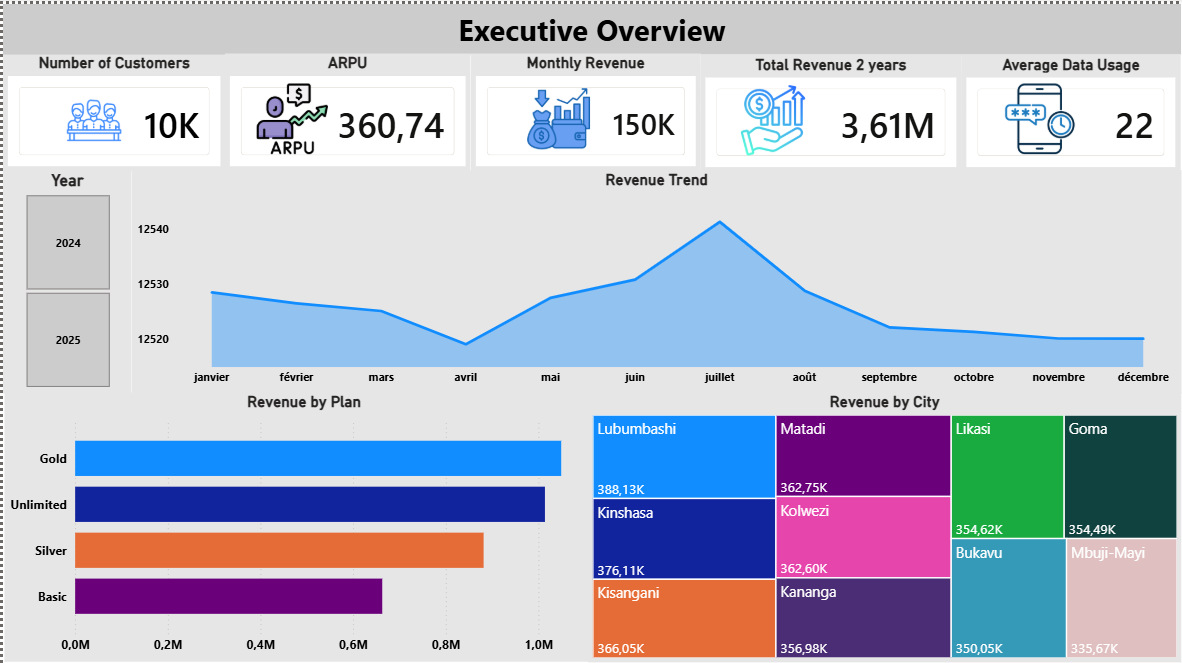

This screenshot's page, from the dashboard's own definition file:
{"tool":"powerbi","page":{"name":"Page 1","canvas":[1290,730],"ordinal":0},"visuals":[{"type":"cardVisual","title":"Number of Customers","fields":{"Data":["customers.Total Customers"]},"box":[0,54.8,243.8,128.5],"z":0},{"type":"actionButton","box":[0,0,100,40],"z":1},{"type":"textbox","box":[0,0,1289.4,55.2],"z":2},{"type":"image","box":[17,88.8,166.3,77.5],"z":3},{"type":"cardVisual","title":"ARPU","fields":{"Data":["revenue.ARPU"]},"box":[243.8,54.8,268.3,128.5],"z":4},{"type":"image","box":[243.8,86.9,147.4,77.5],"z":5},{"type":"cardVisual","title":"Total Revenue 2 years","fields":{"Data":["revenue.Revenues Total"]},"box":[763.7,55.2,285.7,127.6],"z":6},{"type":"image","box":[763.5,88.8,158.7,77.5],"z":7},{"type":"cardVisual","title":"Average Data Usage","fields":{"Data":["usage.Average Data Usage"]},"box":[1049.4,55.2,240,127.6],"z":8},{"type":"image","box":[1062.1,86.9,145.5,77.5],"z":9},{"type":"cardVisual","title":"Monthly Revenue","fields":{"Data":["revenue.Monthly Revenue"]},"box":[512.1,54.8,251.3,128.5],"z":10},{"type":"image","box":[557.5,88.8,100.2,73.7],"z":11},{"type":"lineChart","title":"Revenue Trend","fields":{"Y":["revenue.Monthly Revenue"],"Category":["revenue.month.Variation.Hiérarchie de dates.Mois"]},"box":[140.9,182.8,1148.4,243.8],"z":13},{"type":"barChart","title":"Revenue by Plan","fields":{"Category":["plans.plan_name"],"Y":["revenue.Revenues Total"],"Series":["plans.plan_name"]},"box":[1.6,425.9,655.8,294.7],"z":14},{"type":"treemap","title":"Revenue by City","fields":{"Group":["customers.city"],"Values":["revenue.Revenues Total"]},"box":[639.9,424.7,649.4,295.2],"z":15},{"type":"slicer","title":"Year","fields":{"Values":["revenue.Year"]},"box":[0,182.8,140.9,243.8],"z":16}]}

Visuals, with their boxes in screenshot pixels (x1, y1, x2, y2), scaled from the page's 1290x730 canvas onto the 1182x663 screenshot:
"Number of Customers" cardVisual: <box>0,50,223,166</box>
actionButton: <box>0,0,92,36</box>
textbox: <box>0,0,1181,50</box>
image: <box>16,81,168,151</box>
"ARPU" cardVisual: <box>223,50,469,166</box>
image: <box>223,79,358,149</box>
"Total Revenue 2 years" cardVisual: <box>700,50,962,166</box>
image: <box>700,81,845,151</box>
"Average Data Usage" cardVisual: <box>962,50,1181,166</box>
image: <box>973,79,1106,149</box>
"Monthly Revenue" cardVisual: <box>469,50,699,166</box>
image: <box>511,81,603,148</box>
"Revenue Trend" lineChart: <box>129,166,1181,387</box>
"Revenue by Plan" barChart: <box>1,387,602,654</box>
"Revenue by City" treemap: <box>586,386,1181,654</box>
"Year" slicer: <box>0,166,129,387</box>
